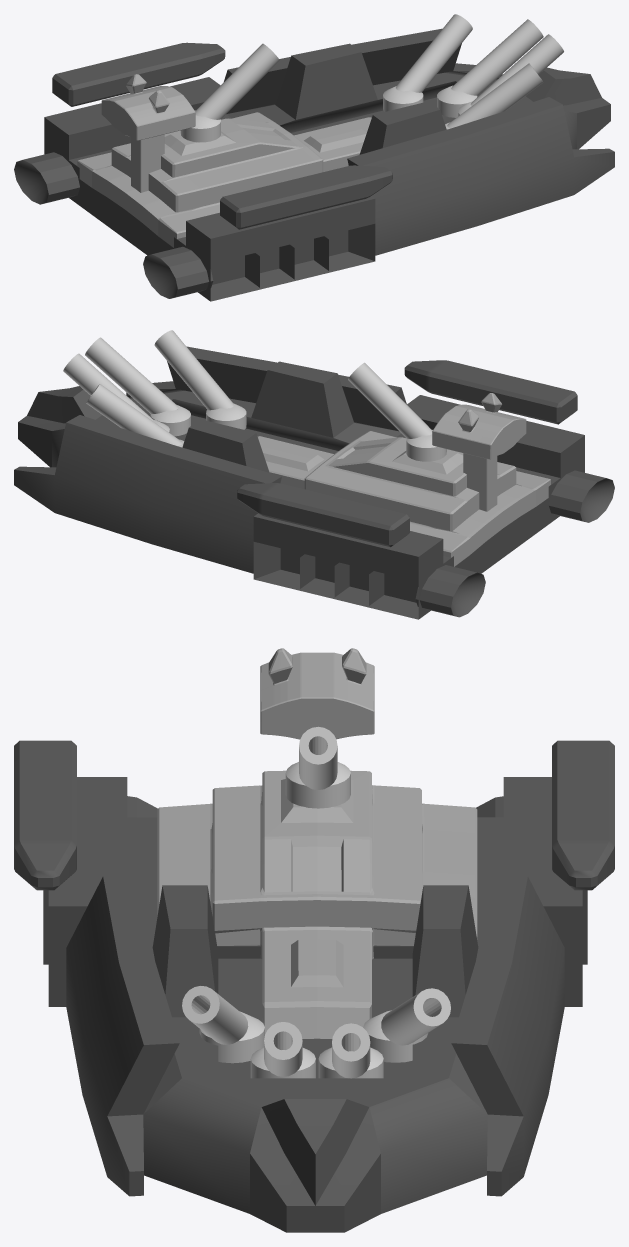
File: battleship.fbx
3 renders of one model, top to bottom at view 1: azimuth 30°, elevation 25°; view 2: azimuth 150°, elevation 25°; view 3: azimuth 270°, elevation 25°, orthographic. The views are drawn at different scales.
Parts seen in each view (by area): view 1: polySurface33; view 2: polySurface33; view 3: polySurface33.
Part boxes in pixels (<box>): polySurface33: <box>14,14,614,301</box>; polySurface33: <box>14,330,614,619</box>; polySurface33: <box>14,648,614,1232</box>.
Size of the model in its own units: 28.57 by 8.72 by 18.3.
Materials: 1 (1 with a texture image).
